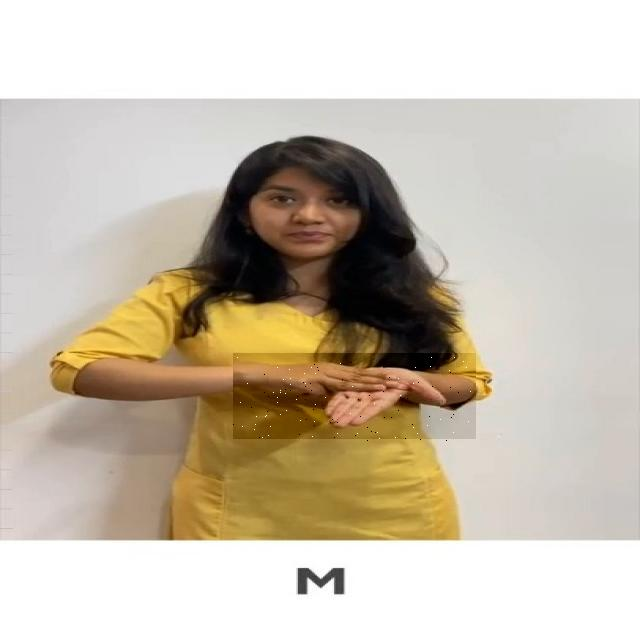M: (233, 354, 476, 442)
